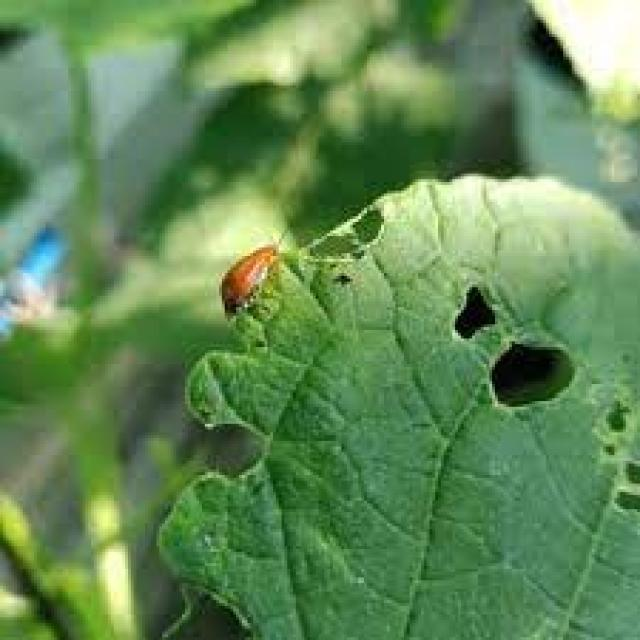Pumpkin Beetle: (420, 260, 598, 433), (197, 231, 315, 324), (320, 205, 402, 278), (604, 398, 640, 514)
